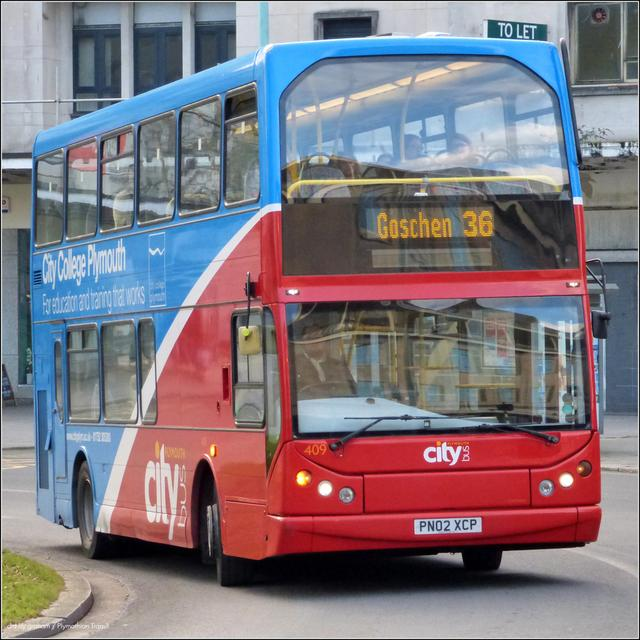Bus: (27, 34, 610, 578)
